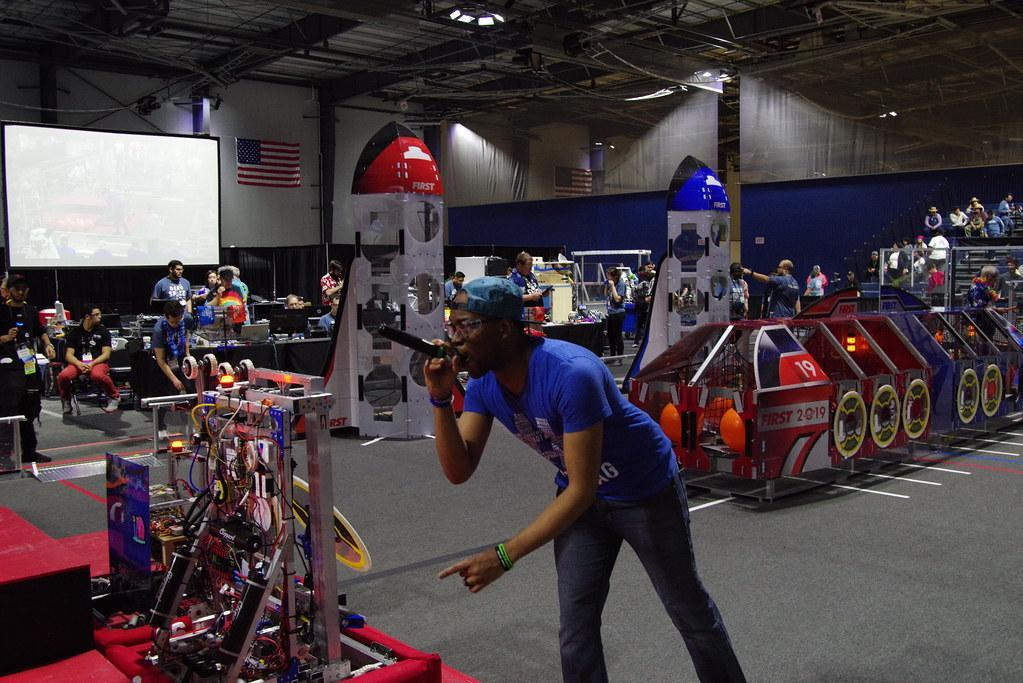robot: (85, 347, 448, 683)
